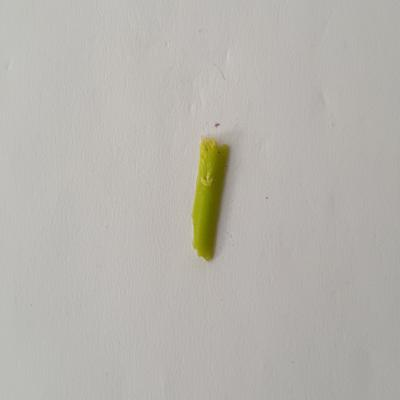plastic: (183, 127, 237, 266)
